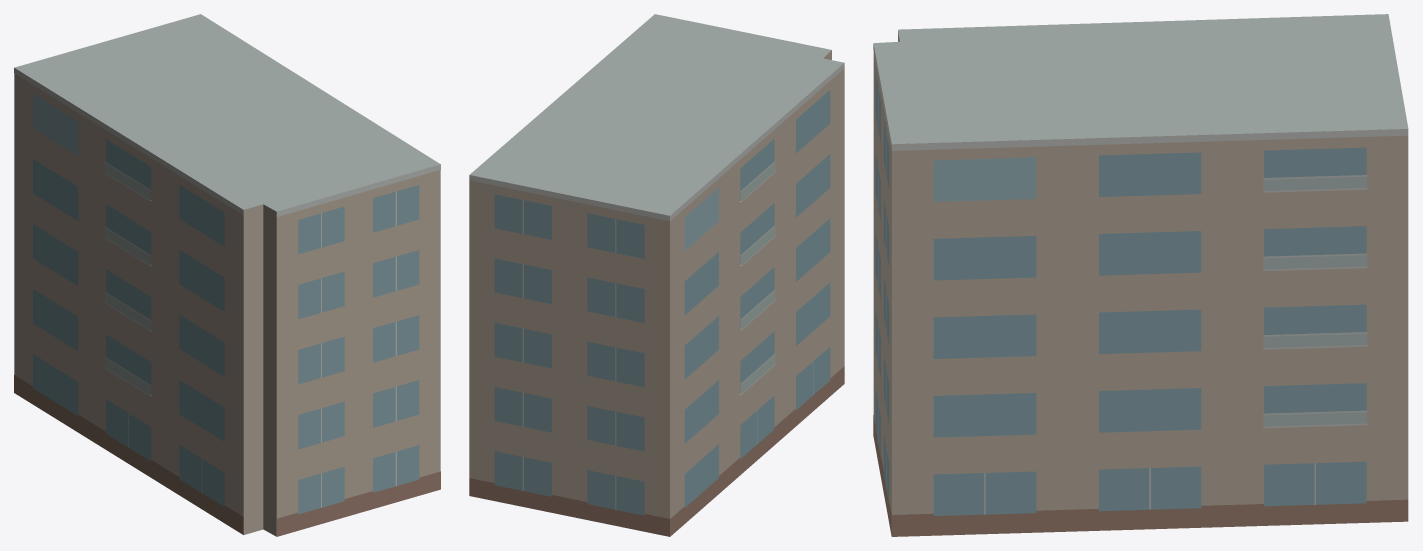
File: survey-upis-32874530.glb
The picture shows the model from 3 angles, left to right: view 1: azimuth 30°, elevation 25°; view 2: azimuth 150°, elevation 25°; view 3: azimuth 270°, elevation 25°; orthographic projection. The views are drawn at different scales.
Parts seen in each view (by area): view 1: survey-upis-32874530.tmp; view 2: survey-upis-32874530.tmp; view 3: survey-upis-32874530.tmp.
Boxes of the visible parts, left/top/right/bottom form: survey-upis-32874530.tmp: left=14, top=14, right=440, bottom=536; survey-upis-32874530.tmp: left=469, top=14, right=844, bottom=536; survey-upis-32874530.tmp: left=873, top=14, right=1408, bottom=536.
Bounding box in the file's own units: 10.18 × 14.3 × 17.67.
